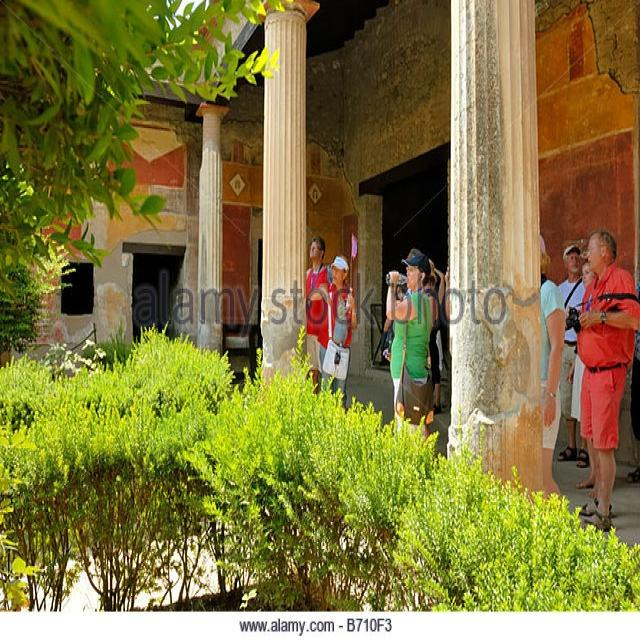body: (568, 226, 639, 536), (373, 249, 461, 415), (383, 247, 434, 441), (566, 256, 603, 502), (556, 243, 591, 471), (539, 235, 567, 502), (313, 255, 358, 411), (304, 232, 333, 395), (627, 255, 639, 489)
